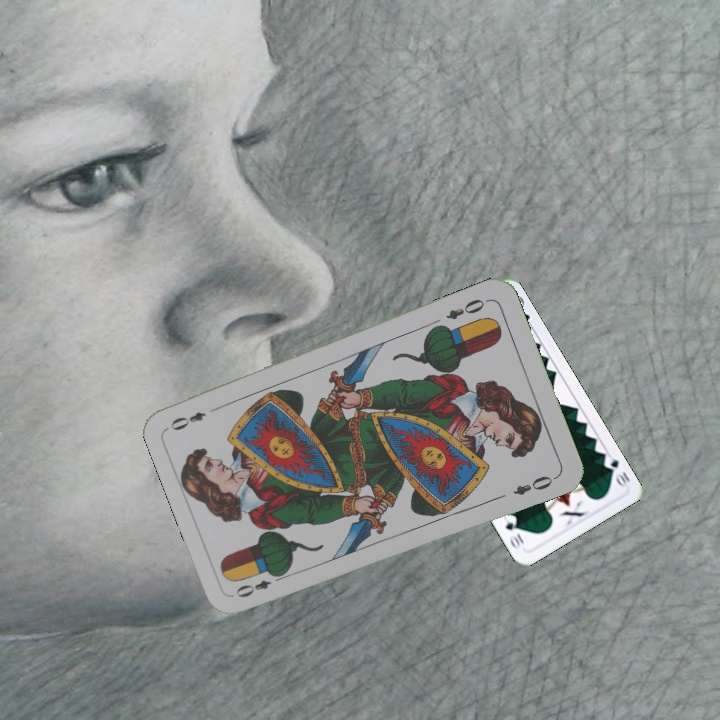EO: (231, 569, 288, 600), (442, 294, 492, 322)
G10: (599, 451, 633, 490)
